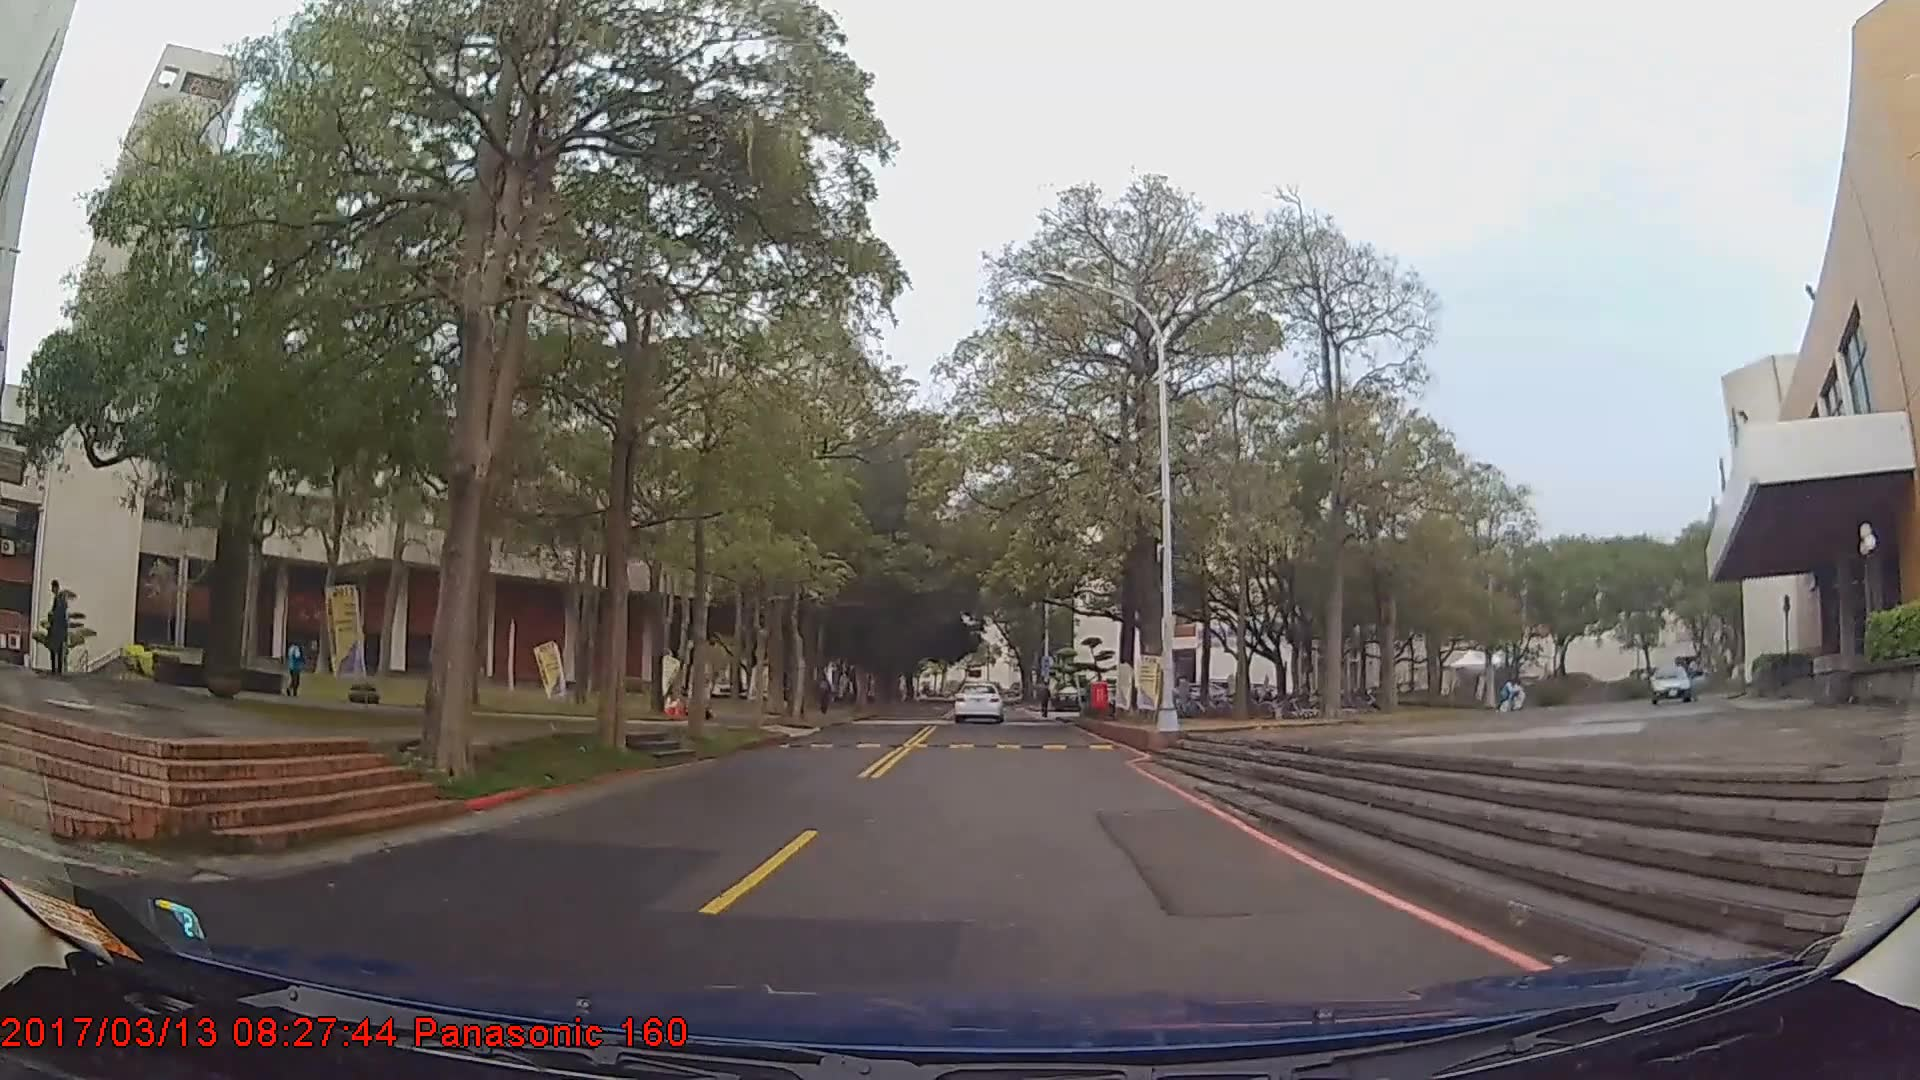pedestrian: (44, 581, 70, 676), (288, 636, 309, 696)
vehicle: (1646, 662, 1709, 706), (953, 681, 1003, 724)
